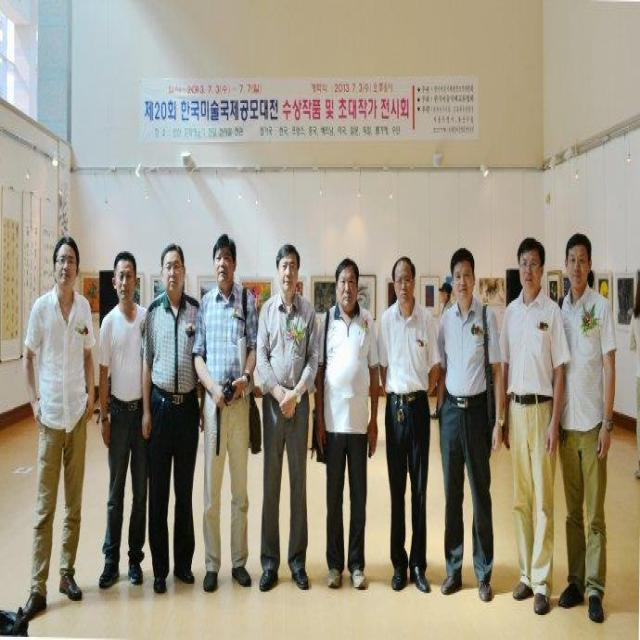non-fight: (21, 234, 94, 626), (553, 231, 616, 620), (433, 248, 500, 598), (312, 254, 378, 592), (148, 244, 209, 593), (375, 253, 437, 591), (258, 245, 315, 589), (97, 253, 152, 590)
